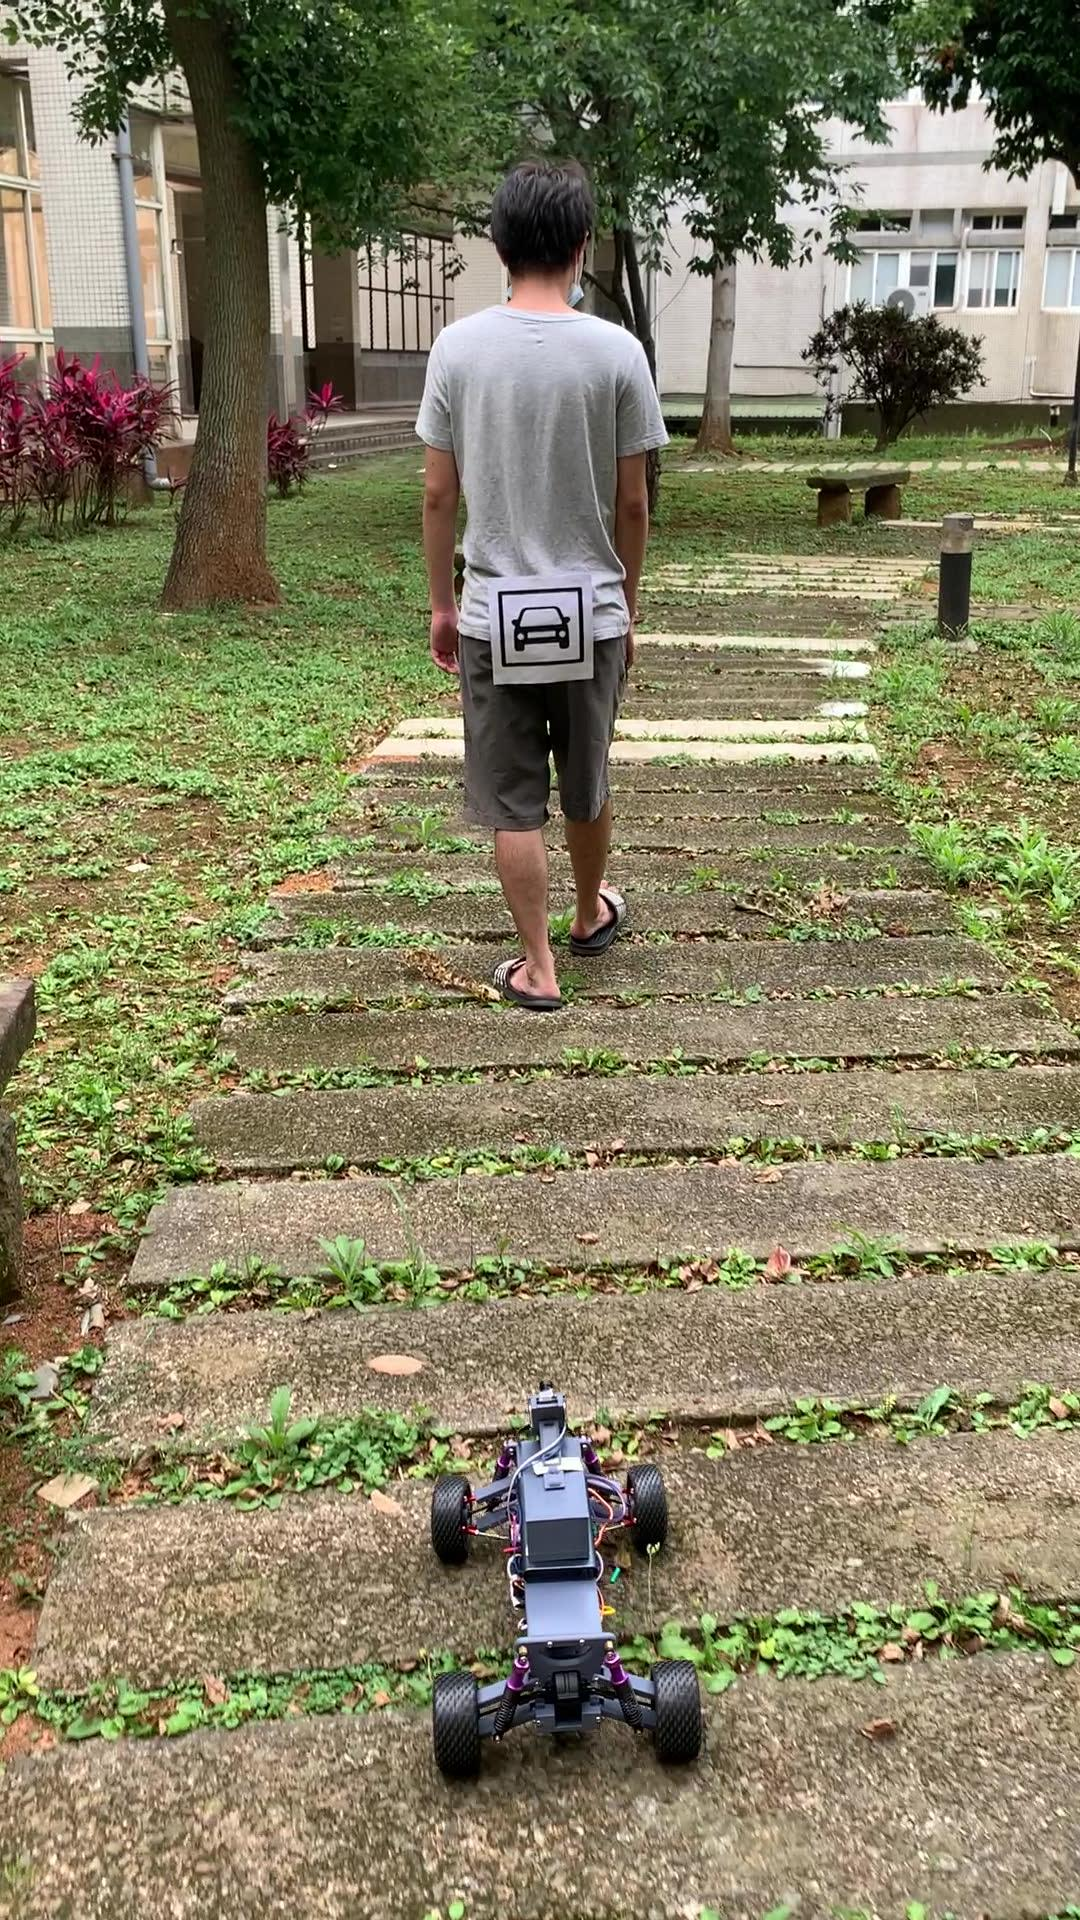car_img: (497, 587, 584, 667)
